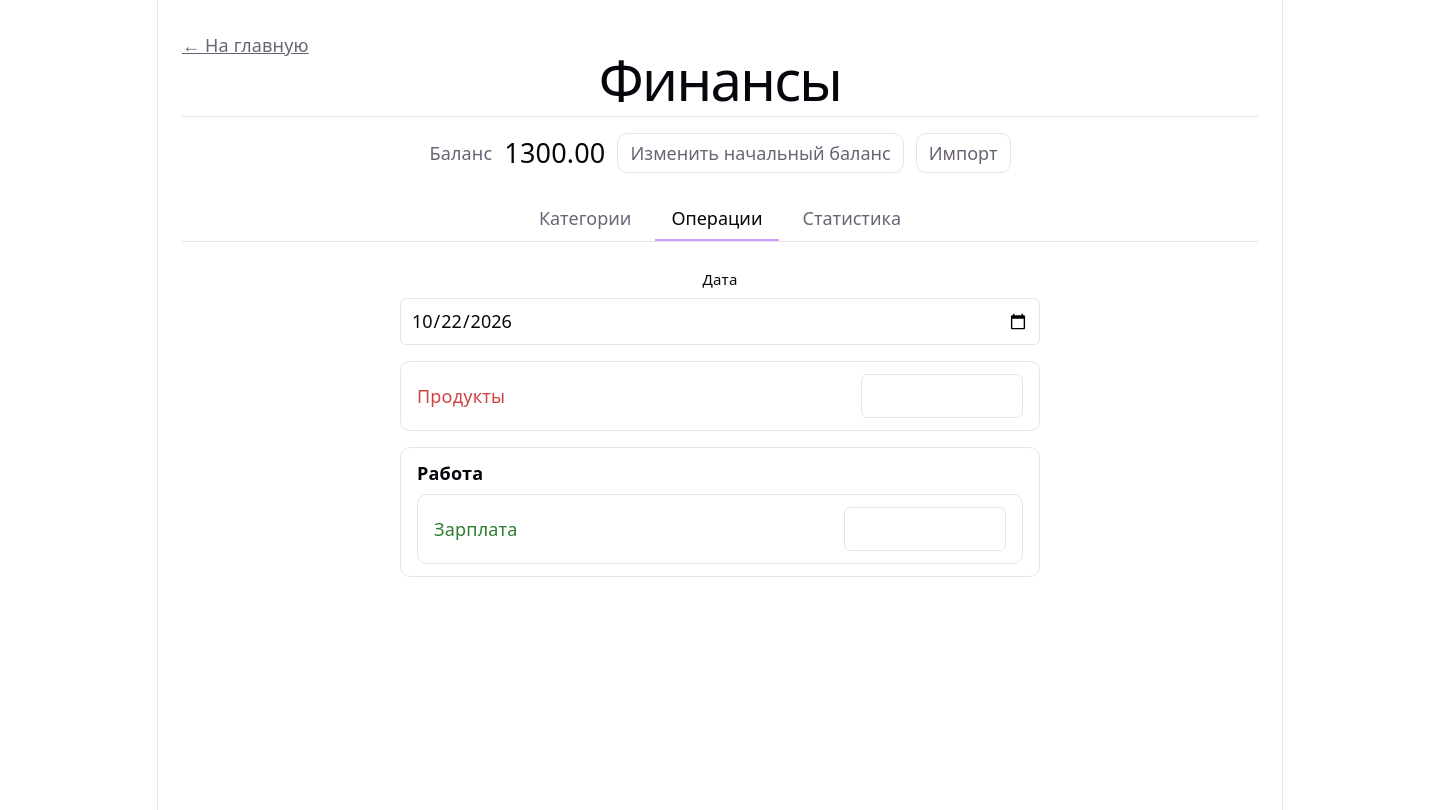
it: FinancesPage › изменяет начальный баланс через модальное окно
Expected: the text "1300.00" is shown, [504,140,606,166]
Click the button "Изменить начальный баланс" at (761,153), box [618,133,904,173]
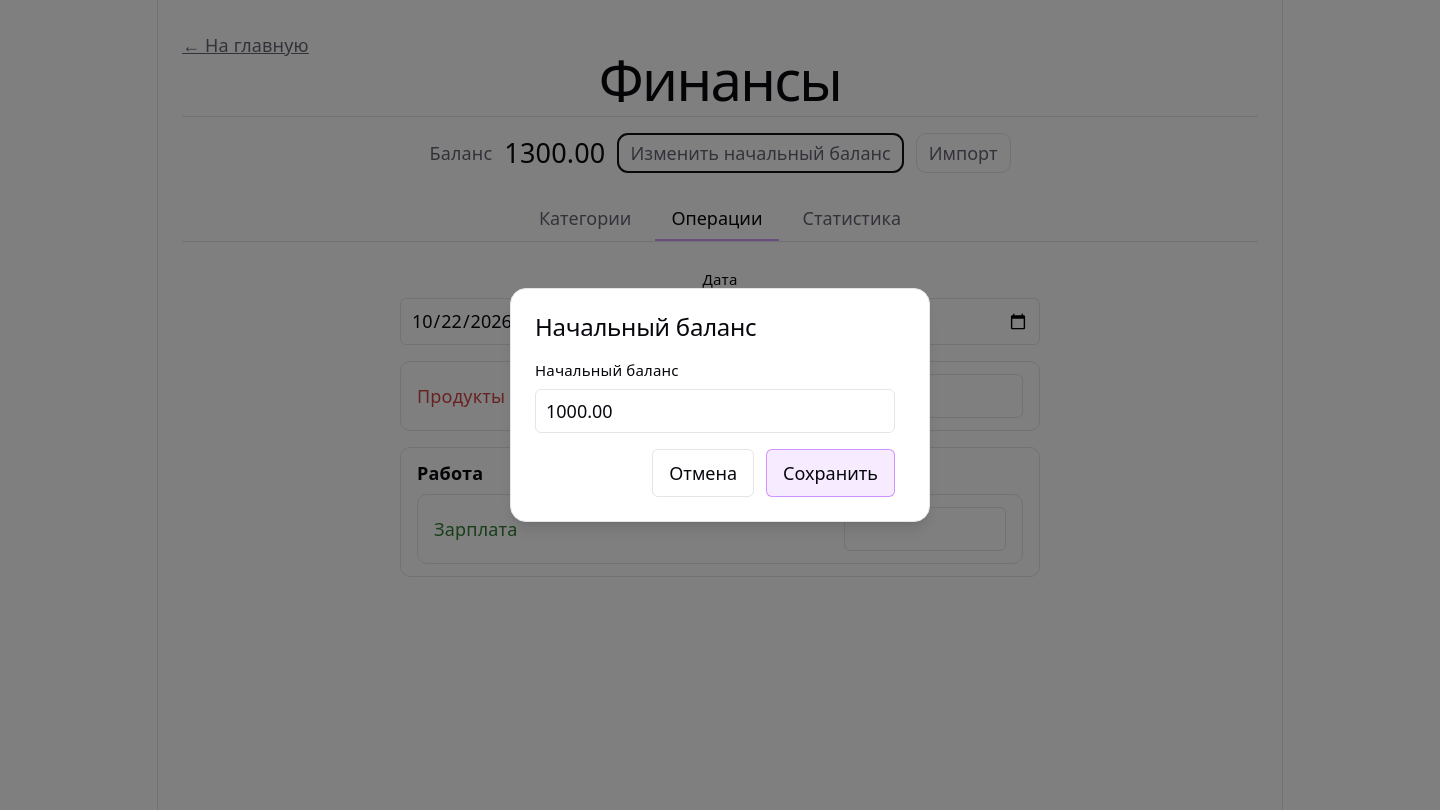
Replace the text in the field labelled "Начальный баланс" with "2000" at (715,411), box [535,389,895,433]
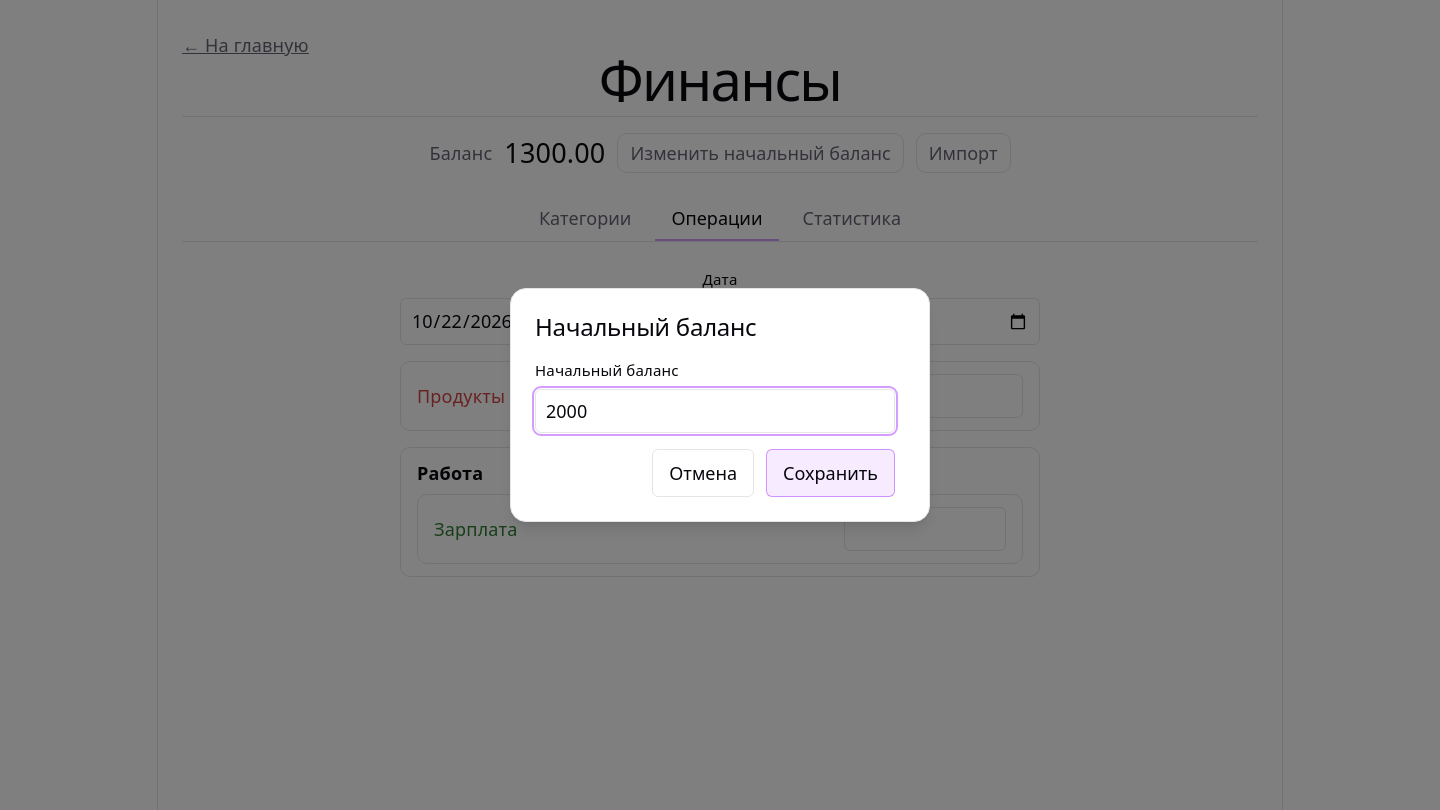
Click the button "Сохранить" at (831,473), box [766,449,895,497]
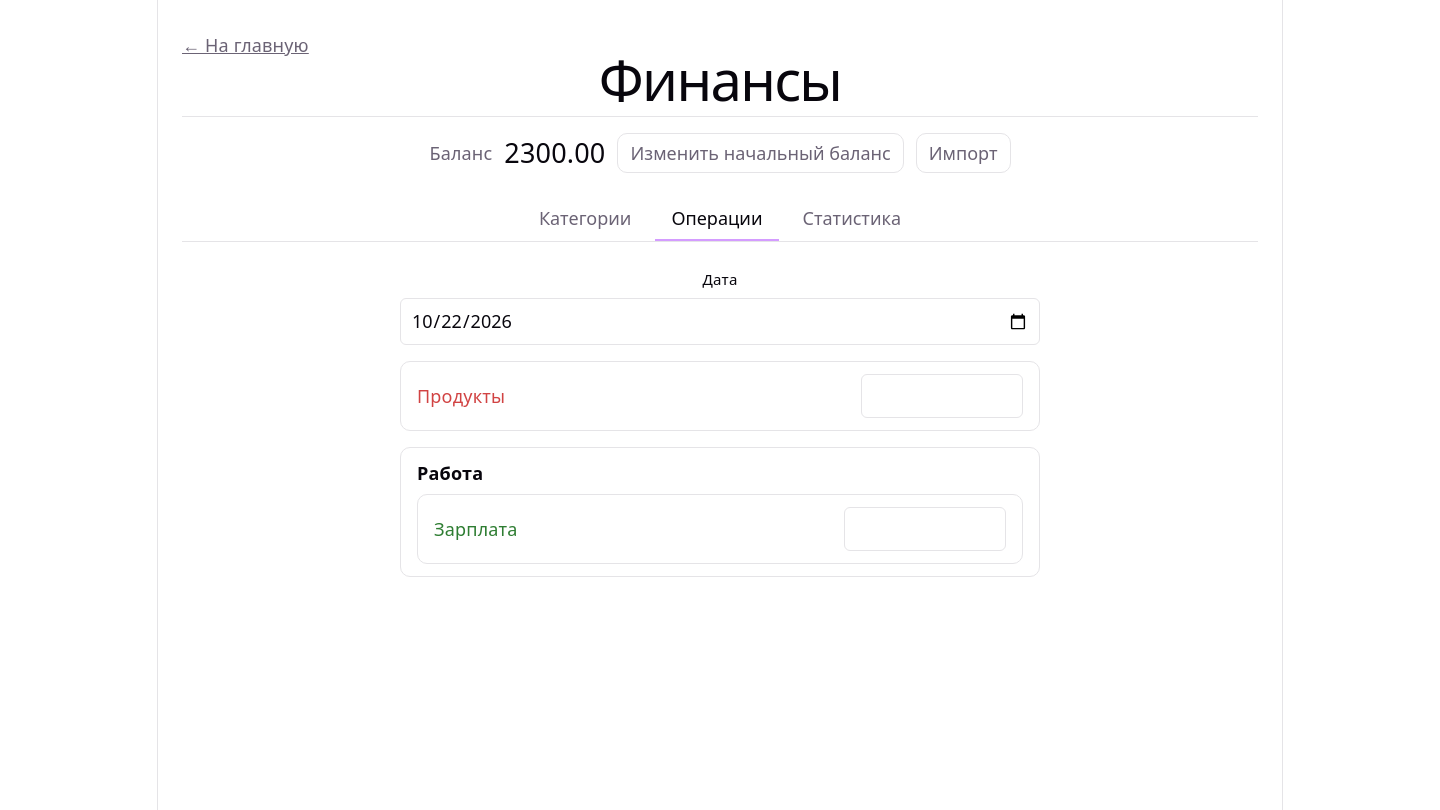
Now the dialog is gone
Now the text "2300.00" is shown, box [504,140,606,166]
